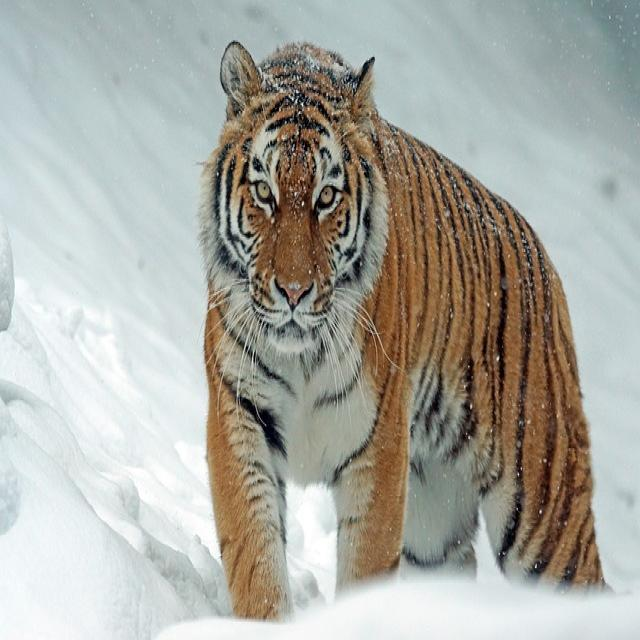Carnivorous: (196, 40, 607, 624)
